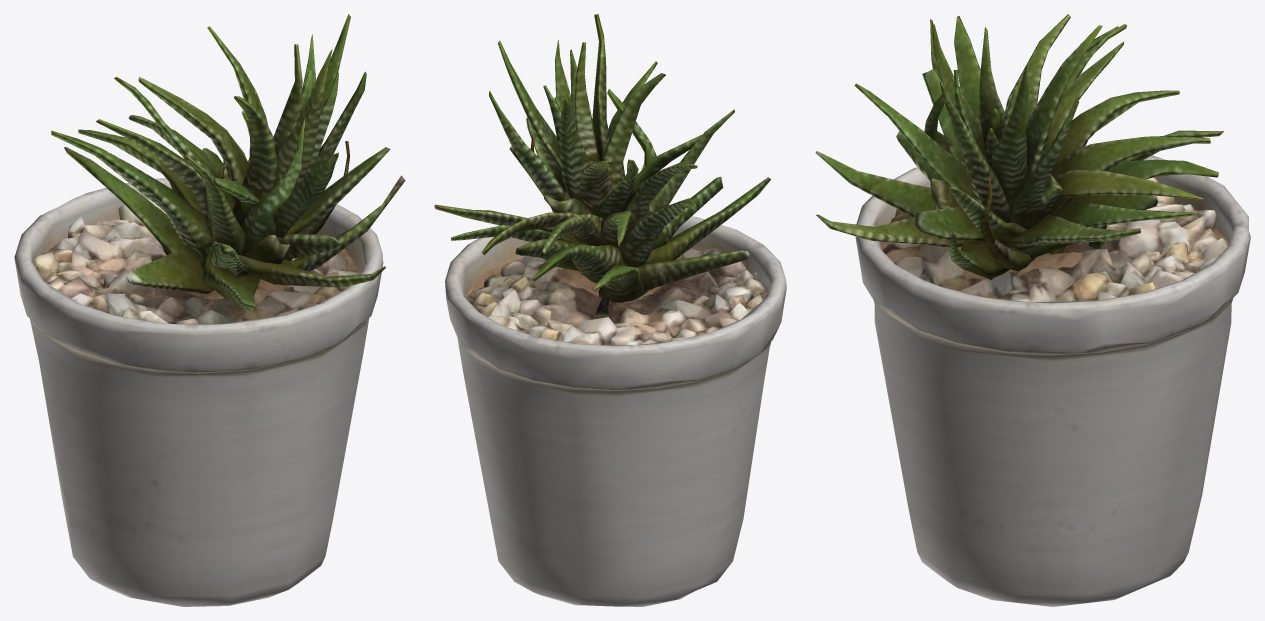
File: plant.glb
3 views of the same model, side by side, from view 1: azimuth 30°, elevation 25°; view 2: azimuth 150°, elevation 25°; view 3: azimuth 270°, elevation 25° (orthographic). The views are drawn at different scales.
Bounding box in the file's own units: 0.1677 × 0.2671 × 0.1841.
1 material, 1 textured.
